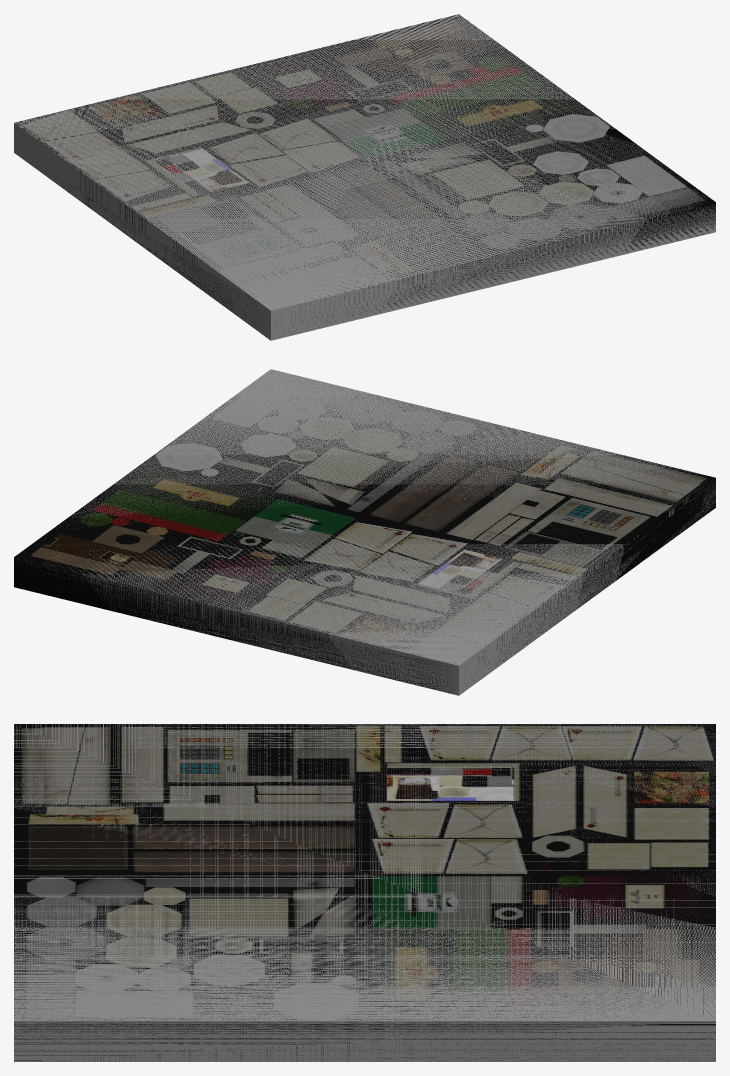
The model's file is plate.FBX.
3 renders of one model, top to bottom at view 1: azimuth 30°, elevation 25°; view 2: azimuth 150°, elevation 25°; view 3: azimuth 270°, elevation 25°, orthographic. The views are drawn at different scales.
Parts seen in each view (by area): view 1: bounds, colbox-1; view 2: colbox-1, bounds; view 3: colbox-1, bounds.
Part boxes in pixels (x1,y1,x2,y2): bounds: (14,14,715,340); colbox-1: (15,14,715,332); colbox-1: (14,379,715,693); bounds: (14,369,715,695); colbox-1: (14,724,715,1061); bounds: (14,724,715,1061).
Bounding box in the file's own units: 37.09 × 2.39 × 37.09.
